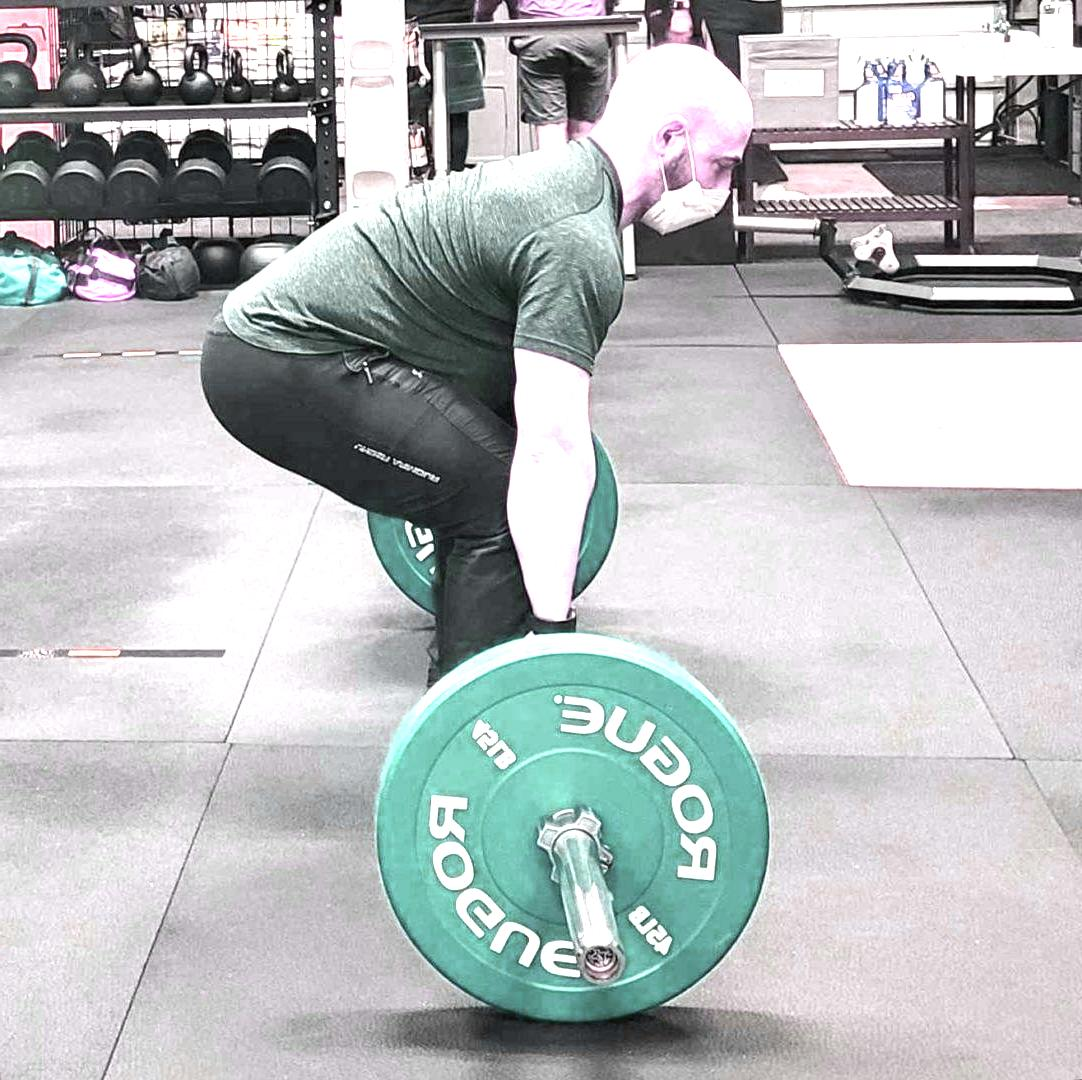Barbell: (570, 936, 624, 995)
